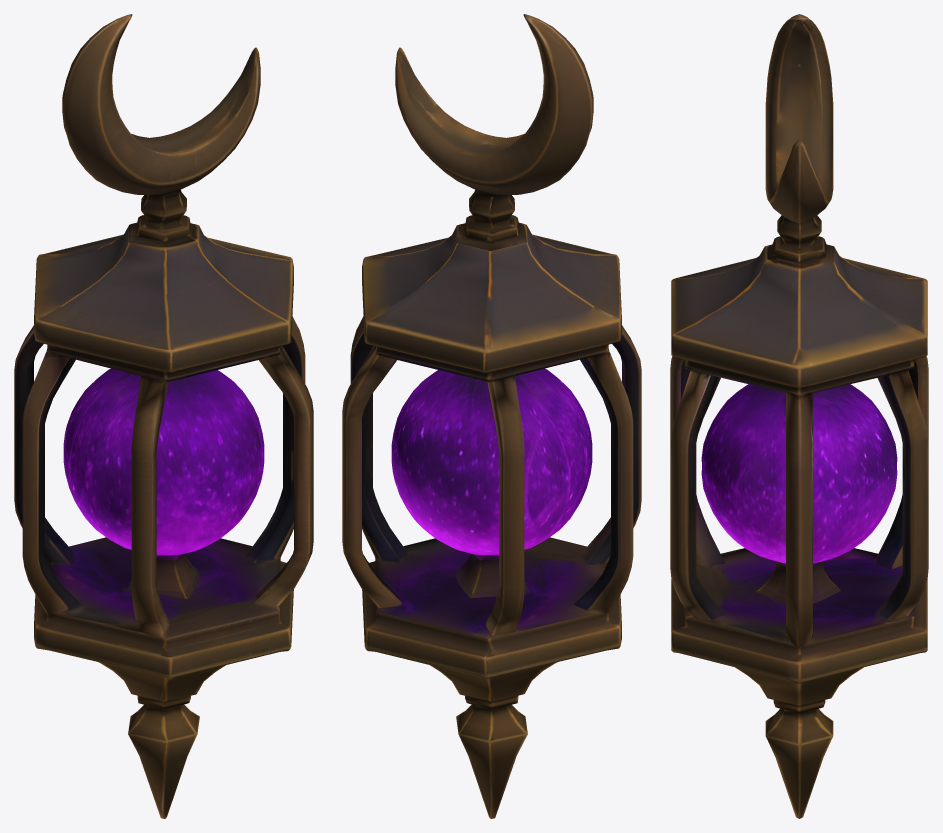
Rendered from Ever-Night-ORB_EM.glb.
3 views of the same model, side by side, from view 1: azimuth 30°, elevation 25°; view 2: azimuth 150°, elevation 25°; view 3: azimuth 270°, elevation 25° (orthographic). The views are drawn at different scales.
Visible parts, largest first — view 1: texture_pbr_v128; view 2: texture_pbr_v128; view 3: texture_pbr_v128.
Part boxes in pixels (x1,y1,x2,y2): texture_pbr_v128: [14, 14, 313, 818]; texture_pbr_v128: [342, 14, 641, 818]; texture_pbr_v128: [670, 14, 928, 818].
Bounding box in the file's own units: 0.6107 × 1.68 × 0.5003.
Materials: 1 (1 with a texture image).
